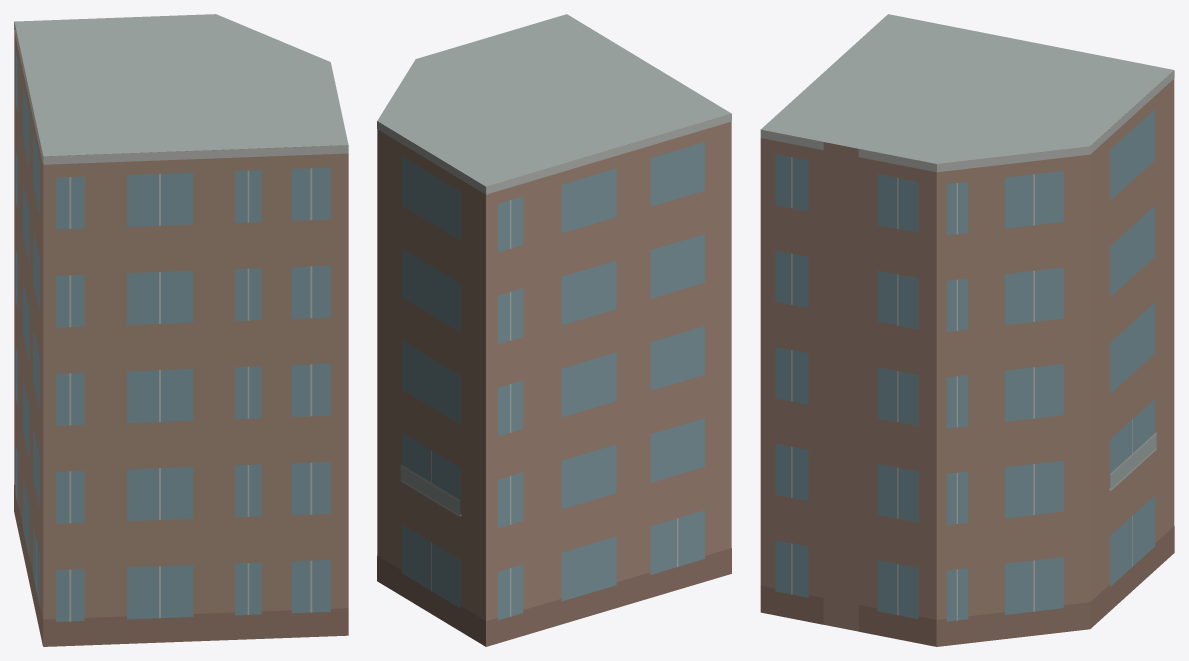
Rendered from survey-upis-32570859.glb.
3 renders of one model, left to right at view 1: azimuth 30°, elevation 25°; view 2: azimuth 150°, elevation 25°; view 3: azimuth 270°, elevation 25°, orthographic. The views are drawn at different scales.
Visible parts, largest first — view 1: survey-upis-32570859.tmp; view 2: survey-upis-32570859.tmp; view 3: survey-upis-32570859.tmp.
Part boxes in pixels (<box>): survey-upis-32570859.tmp: <box>14,14,348,646</box>; survey-upis-32570859.tmp: <box>377,14,731,646</box>; survey-upis-32570859.tmp: <box>760,14,1174,646</box>.
Bounding box in the file's own units: 9.47 × 14.2 × 11.04.
